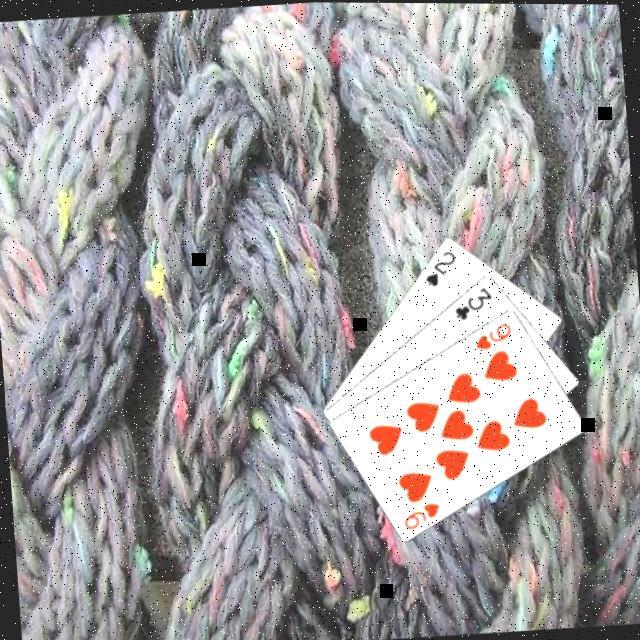2S: (418, 245, 459, 288)
3C: (448, 280, 496, 322)
9H: (398, 496, 443, 531), (469, 317, 514, 351)
